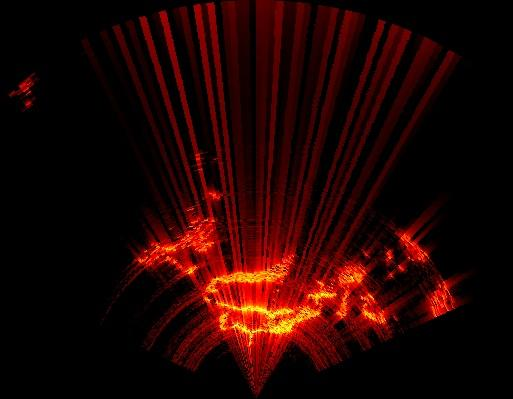shipwreck: (204, 257, 365, 345), (136, 220, 213, 274), (359, 288, 384, 324), (428, 280, 453, 316), (401, 236, 429, 259)
